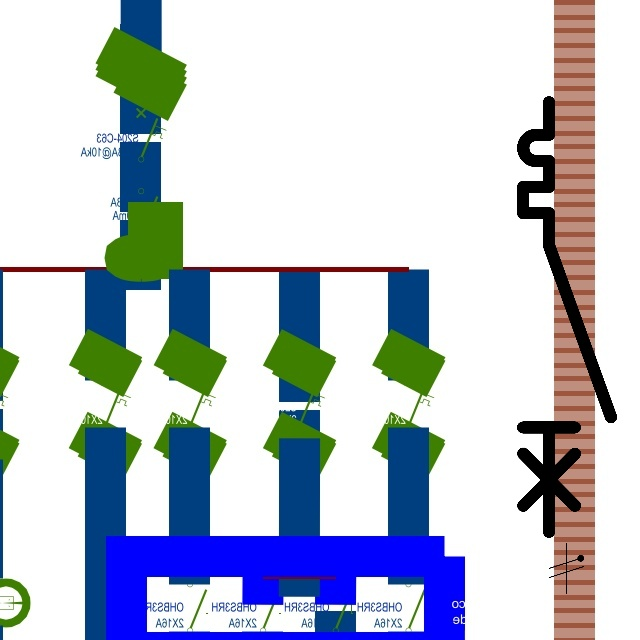interruptor_termomagnetico: (512, 91, 622, 543)
